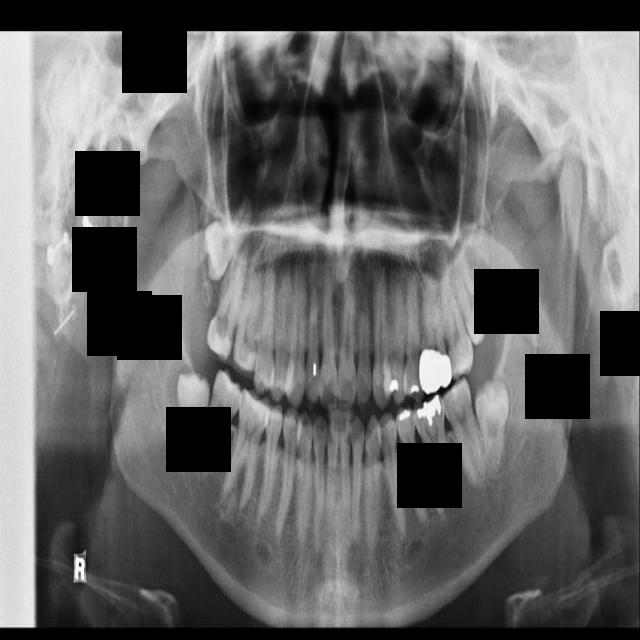3M ESPE Implant: (182, 185, 269, 284)
52: (411, 393, 449, 444), (417, 346, 454, 396), (382, 352, 408, 406), (401, 359, 425, 404), (393, 403, 420, 443), (304, 359, 320, 404)
73: (604, 588, 606, 600)
BioHorizons Implant: (434, 237, 476, 380)
BioLife Implant: (442, 233, 502, 347)
Biomet 3i Implant: (471, 377, 522, 475)
Blue Sky Bio Implant: (435, 375, 495, 494)
Caries: (200, 234, 255, 363)
Implant: (189, 364, 250, 485)
Keystone Dental Implant: (170, 369, 212, 470)
